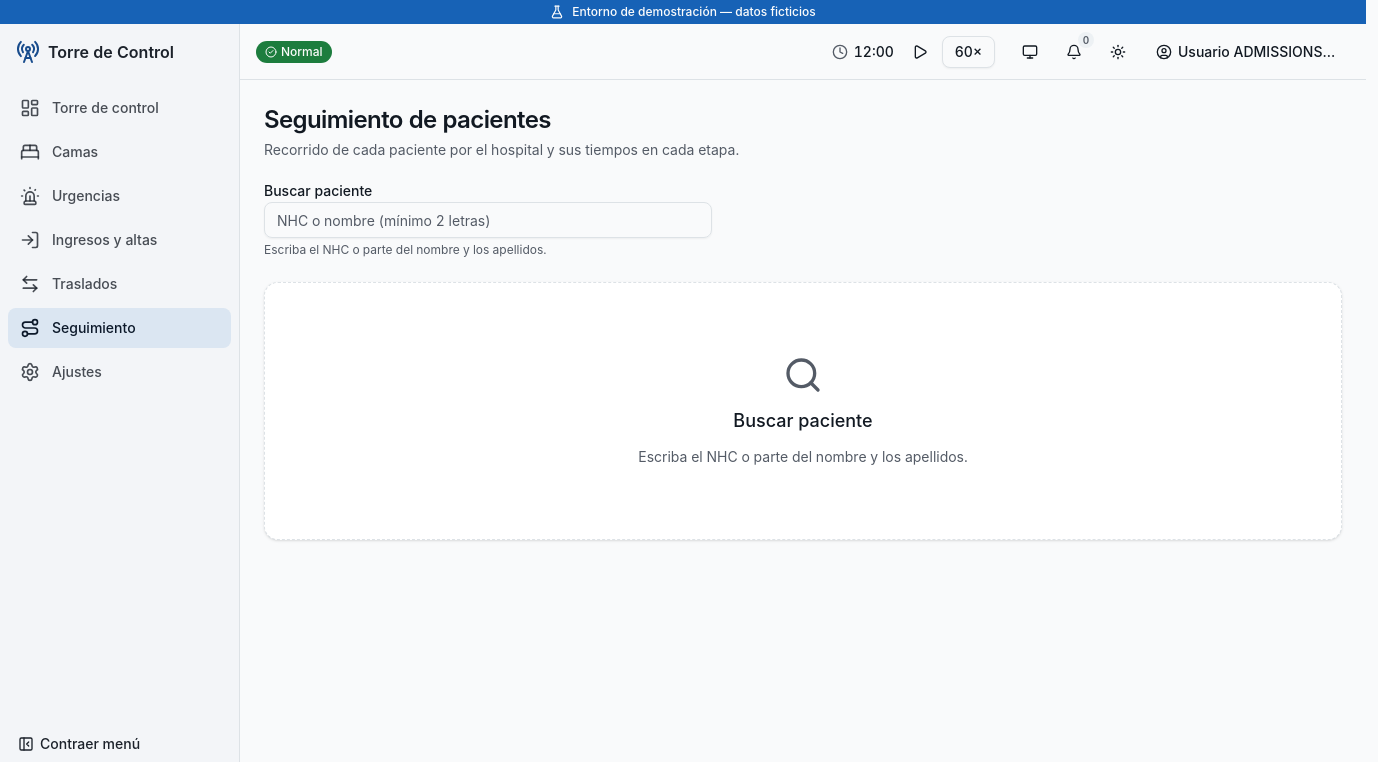
Test case: Seguimiento: search › opens the journey from a result and goes back keeping the search
Expected: the heading "Seguimiento de pacientes" is shown, [264,105,551,134]
Type "SIM-000D" into the search field labelled "Buscar paciente". click: (488, 220)
box: [264,202,712,238]
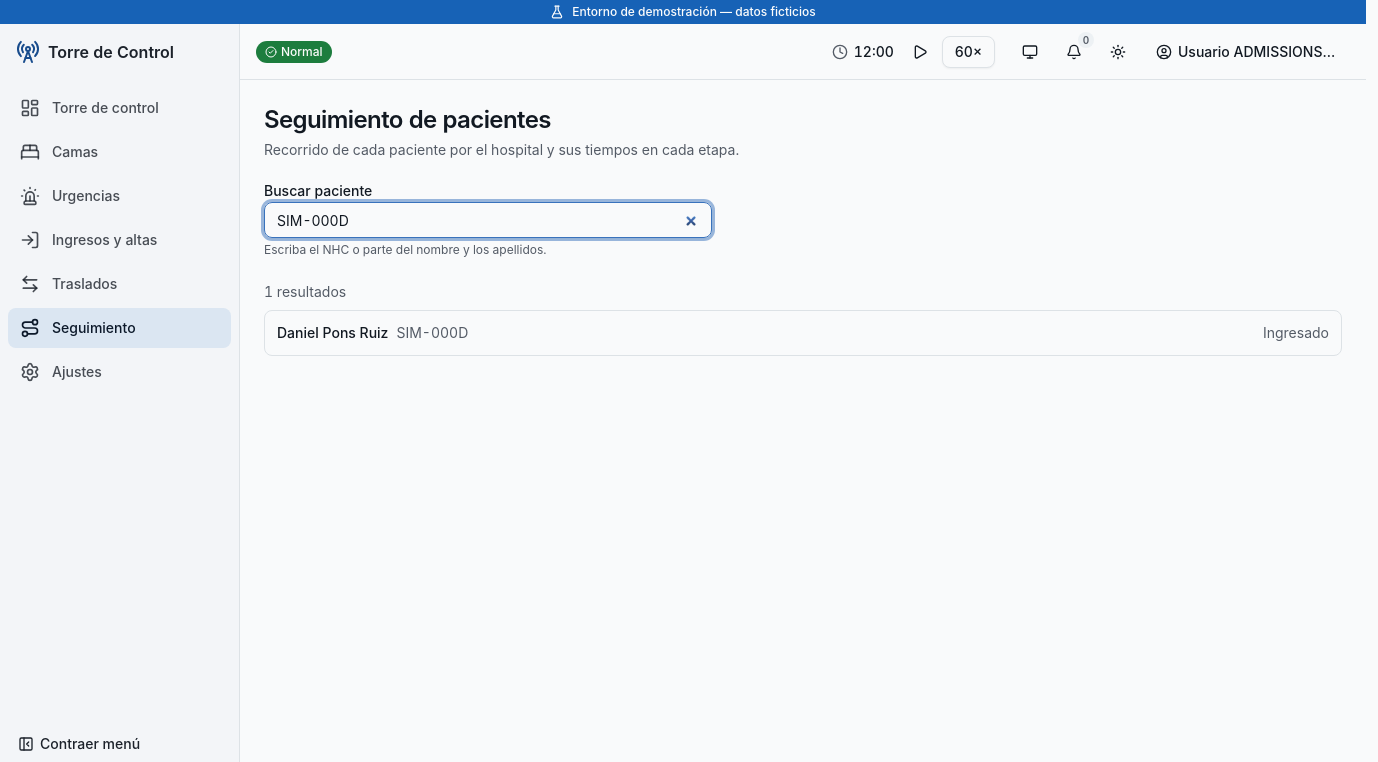
Click the link with aria-label "Ver recorrido de D. P. R.". click: (298, 332)
box: [277,324,1329,341]
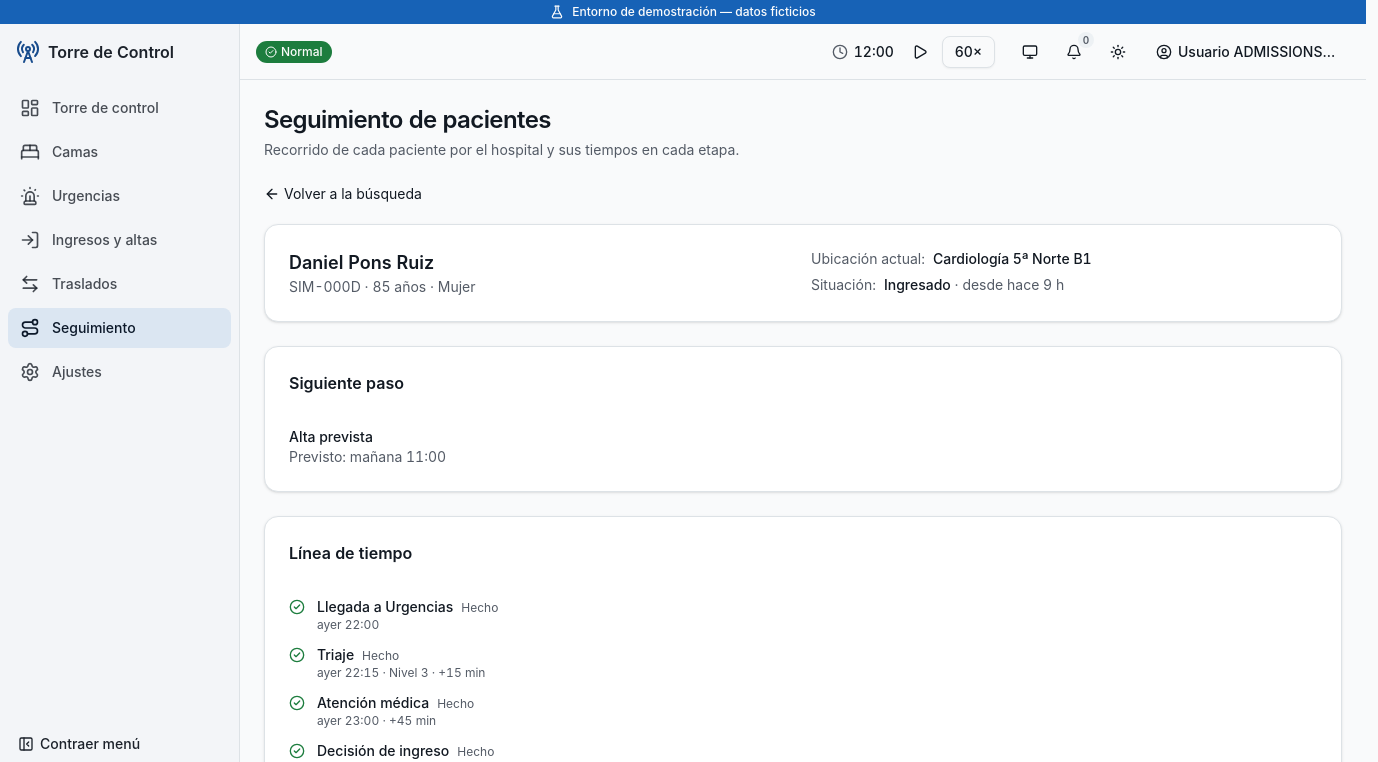
Now the heading "Daniel Pons Ruiz" is shown, box [289,252,434,273]
Click the link "Volver a la búsqueda". click: (343, 194)
box: [264,184,422,204]
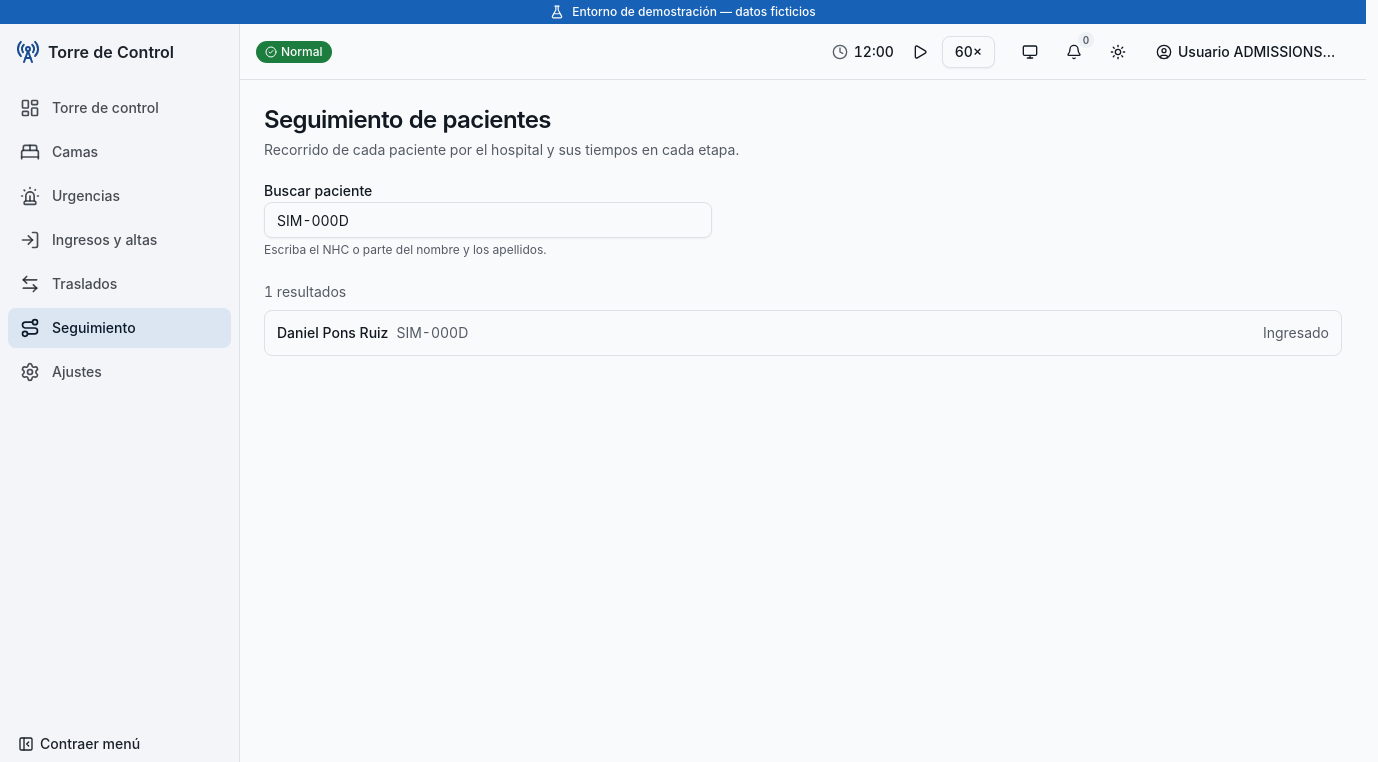
Now the search field labelled "Buscar paciente" holds "SIM-000D", box [264,202,712,238]
